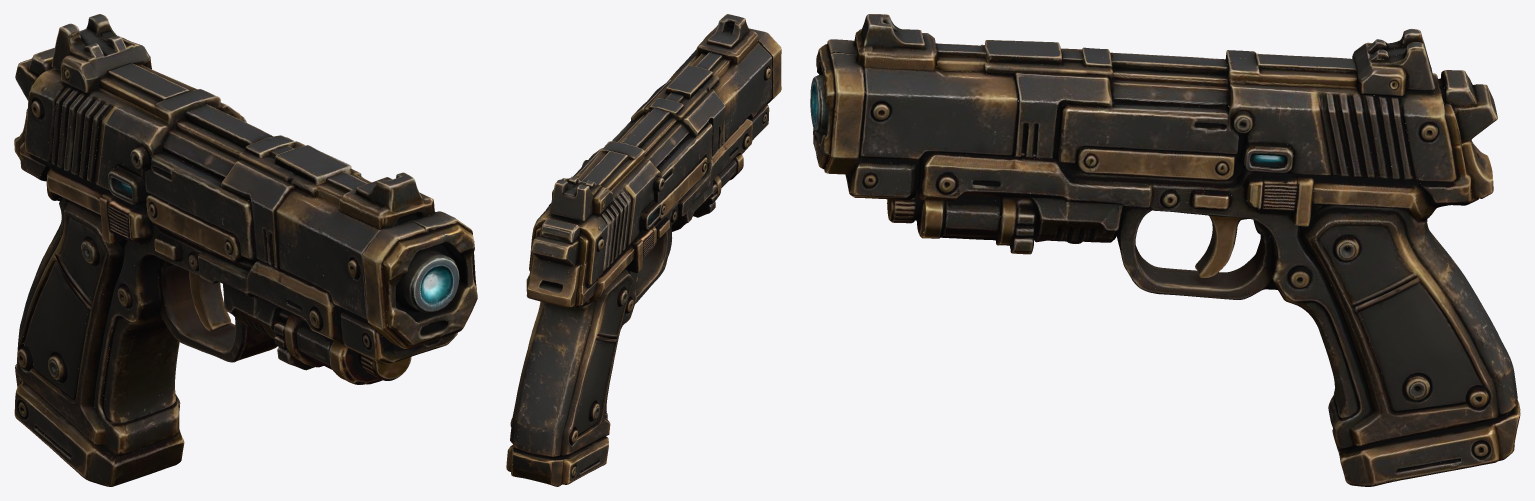
File: tripo-raygun.glb
3 renders of one model, left to right at view 1: azimuth 30°, elevation 25°; view 2: azimuth 150°, elevation 25°; view 3: azimuth 270°, elevation 25°, orthographic. The views are drawn at different scales.
Parts seen in each view (by area): view 1: tripo_node_8434281b-eaf6-40d0-b4c5-0f52cbec2300; view 2: tripo_node_8434281b-eaf6-40d0-b4c5-0f52cbec2300; view 3: tripo_node_8434281b-eaf6-40d0-b4c5-0f52cbec2300.
Boxes of the visible parts, box(x1,y1,x2,y2) form: tripo_node_8434281b-eaf6-40d0-b4c5-0f52cbec2300: box(14, 14, 477, 486); tripo_node_8434281b-eaf6-40d0-b4c5-0f52cbec2300: box(506, 14, 781, 486); tripo_node_8434281b-eaf6-40d0-b4c5-0f52cbec2300: box(810, 14, 1520, 486).
Size of the model in its own units: 0.2194 by 0.7126 by 1.
Materials: 1 (1 with a texture image).
